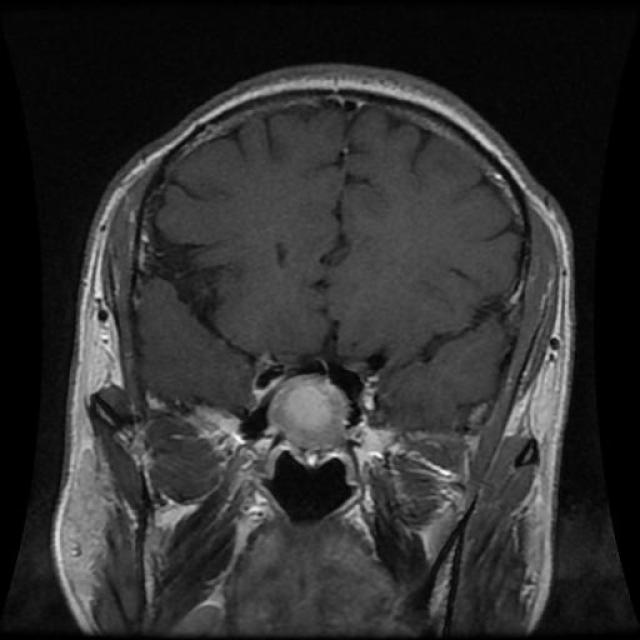pituitary: (264, 356, 369, 459)
